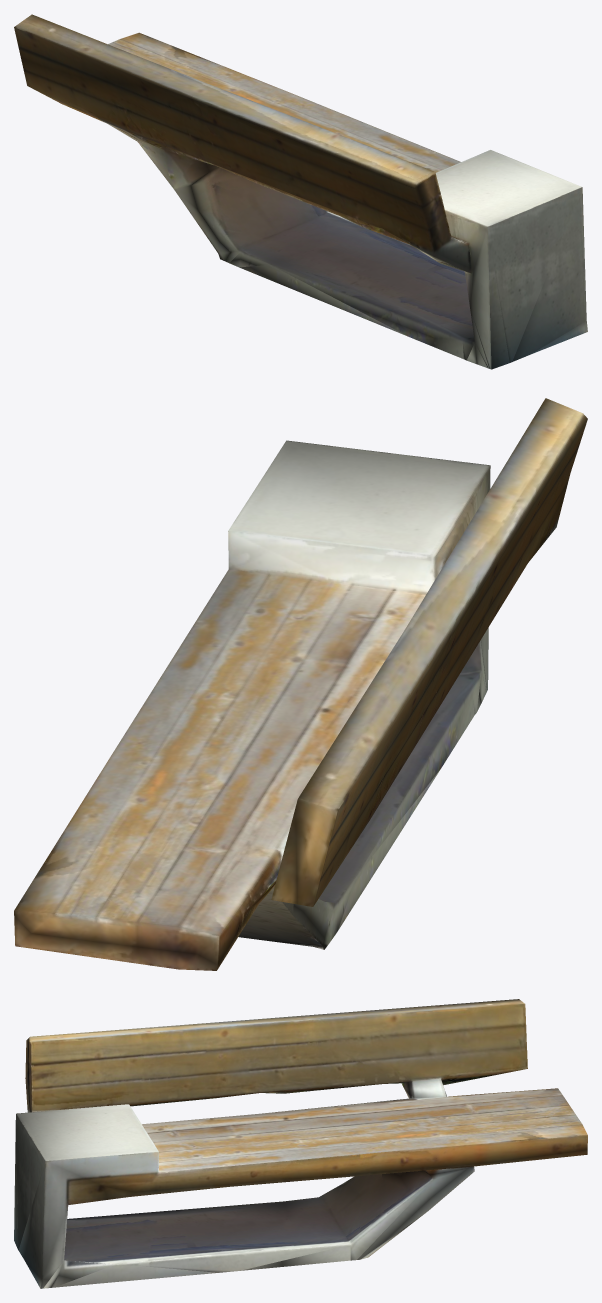
The model's file is bench.glb.
The picture shows the model from 3 angles, top to bottom: view 1: azimuth 30°, elevation 25°; view 2: azimuth 150°, elevation 25°; view 3: azimuth 270°, elevation 25°; orthographic projection. The views are drawn at different scales.
Parts seen in each view (by area): view 1: bench; view 2: bench; view 3: bench.
Part boxes in pixels (<box>): bench: <box>14,14,587,369</box>; bench: <box>14,398,587,970</box>; bench: <box>14,999,587,1288</box>.
Bounding box in the file's own units: 2.93 × 1.92 × 5.44.
Materials: 1 (1 with a texture image).
